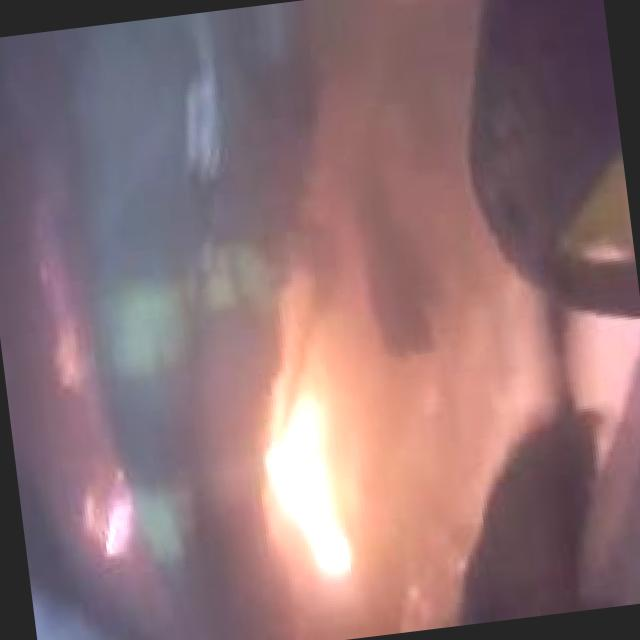fire: (238, 367, 371, 590)
